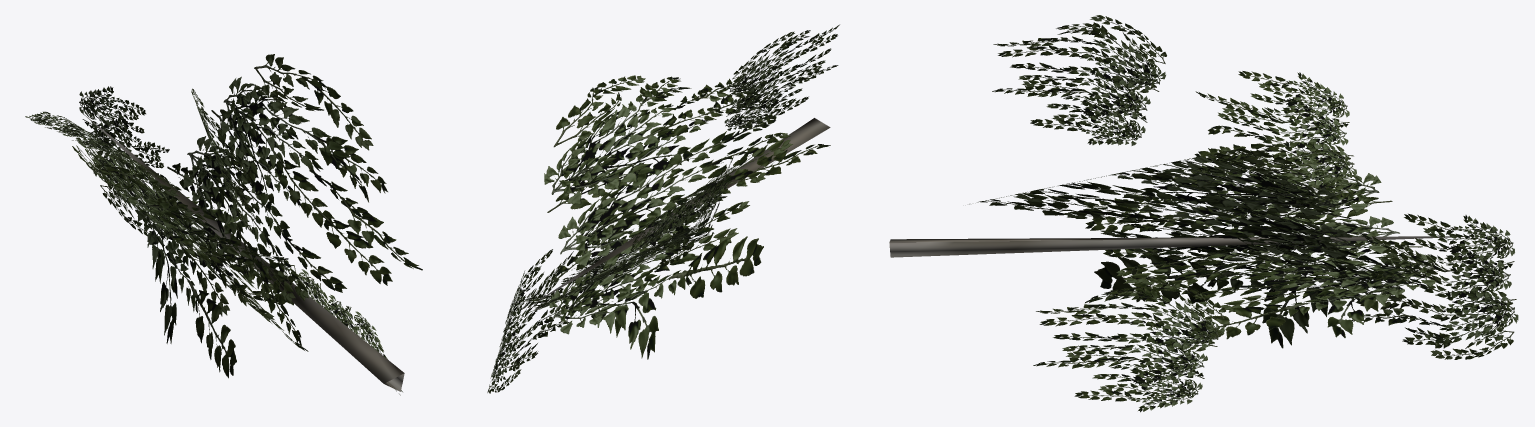
File: MEP_Birch_01_b_LOD_02.fbx
3 views of the same model, side by side, from view 1: azimuth 30°, elevation 25°; view 2: azimuth 150°, elevation 25°; view 3: azimuth 270°, elevation 25° (orthographic). The views are drawn at different scales.
Visible parts, largest first — view 1: MEP_Birch_01_b_LOD_02; view 2: MEP_Birch_01_b_LOD_02; view 3: MEP_Birch_01_b_LOD_02.
Part boxes in pixels (<box>): MEP_Birch_01_b_LOD_02: <box>25,54,422,395</box>; MEP_Birch_01_b_LOD_02: <box>487,24,839,393</box>; MEP_Birch_01_b_LOD_02: <box>889,15,1518,412</box>.
Bounding box in the file's own units: 6.49 × 7.84 × 14.03.
